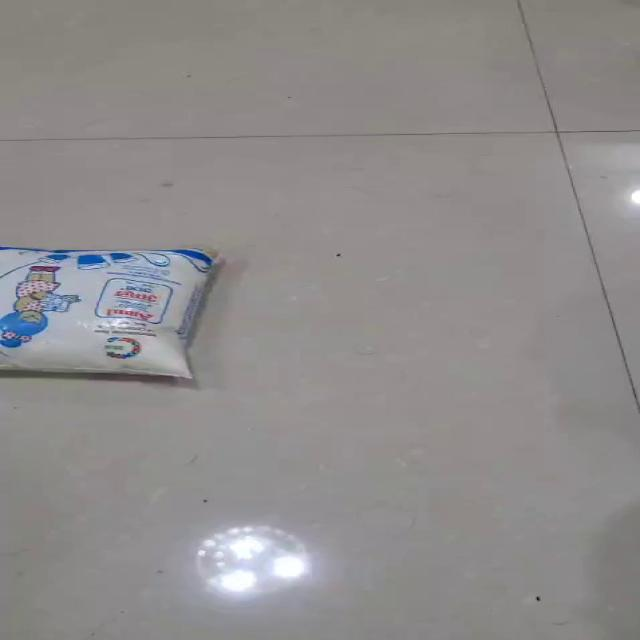plastic: (0, 244, 220, 380)
